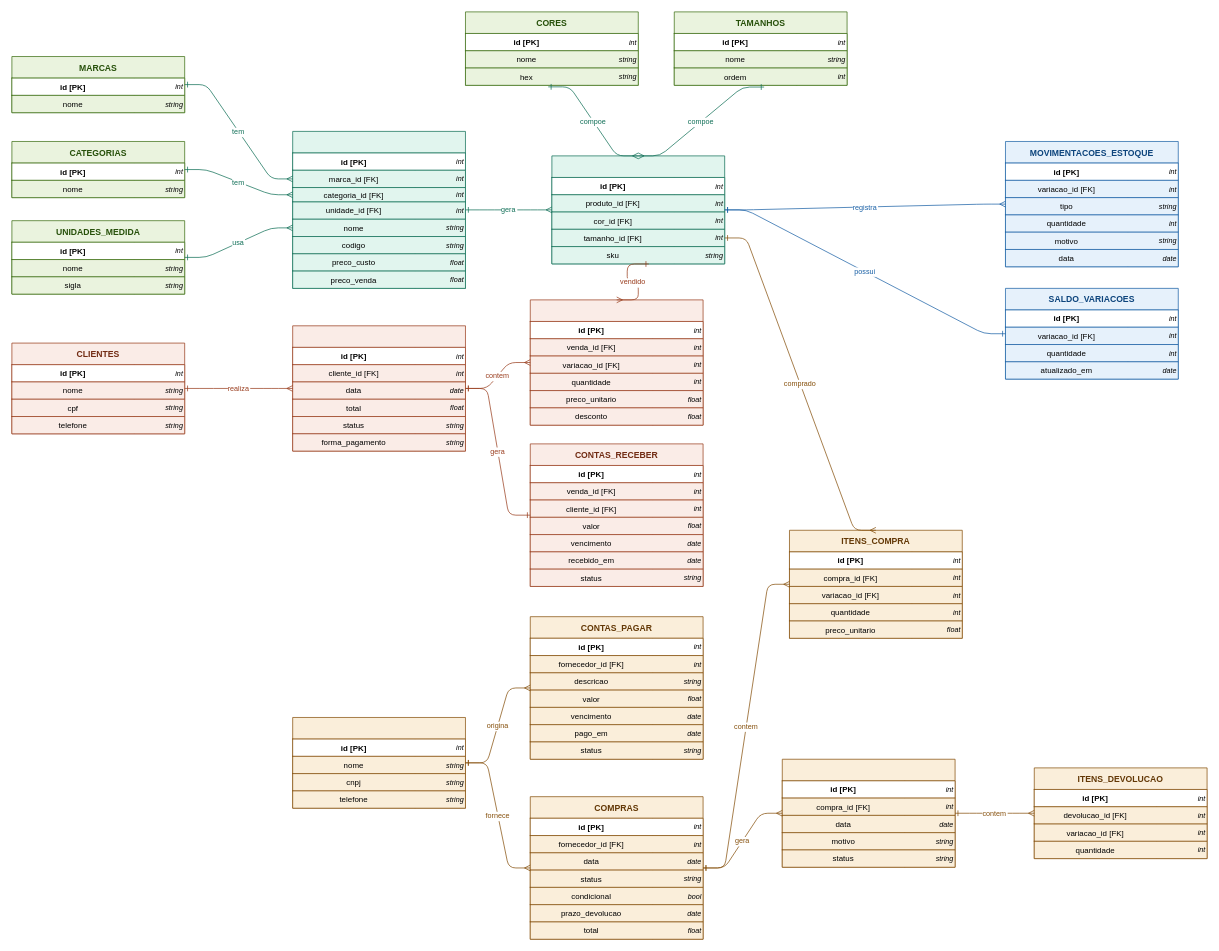
Image size: 1219x951. Some labels were removed from this diagram. The box of each missing label's shape, as (x1, y1, x2, y2) in pixels:
DEVOLUCOES_CONDICIONAL: (782, 759, 955, 867)
FORNECEDORES: (292, 717, 465, 808)
itens_pedido: (530, 299, 703, 425)
pedido: (292, 325, 465, 451)
PRODUTO_VARIACOES: (551, 155, 725, 264)
PRODUTOS: (292, 131, 465, 288)
